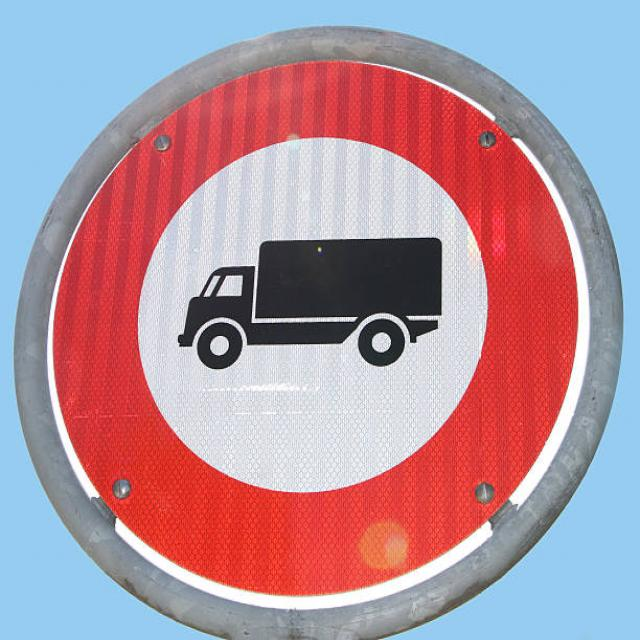do_not_enter: (35, 59, 606, 611)
